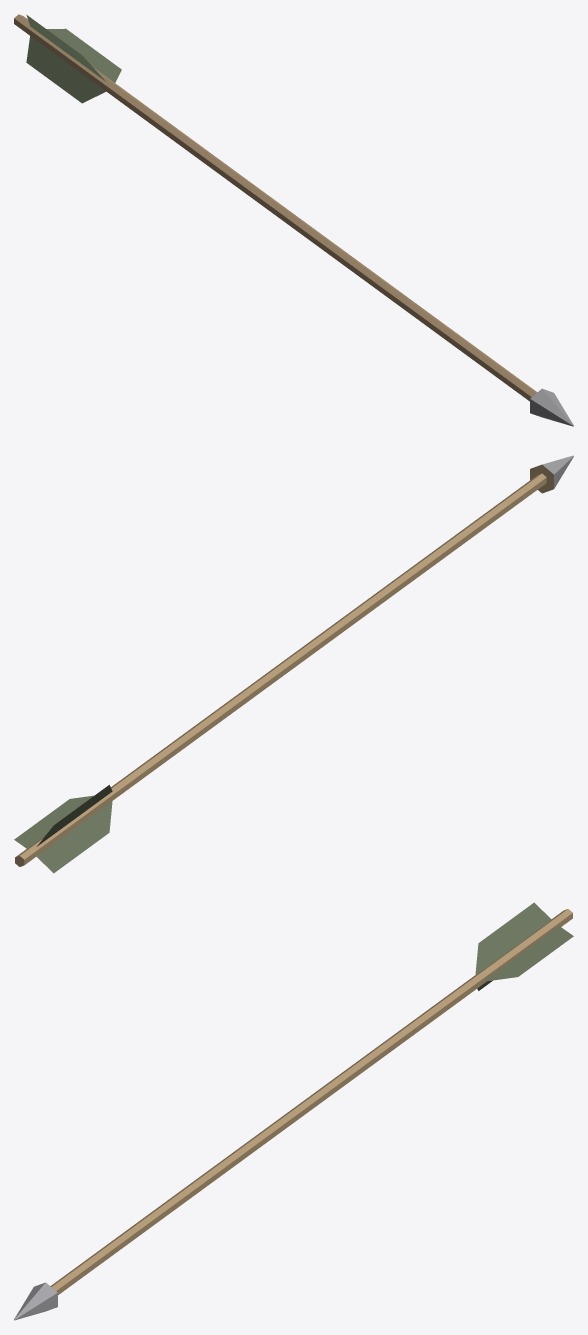
File: ROWAN_arrow.fbx
3 views of the same model, one above another, from view 1: azimuth 30°, elevation 25°; view 2: azimuth 150°, elevation 25°; view 3: azimuth 330°, elevation 25° (orthographic).
Parts seen in each view (by area): view 1: ROWAN_arrow; view 2: ROWAN_arrow; view 3: ROWAN_arrow.
Part boxes in pixels (box(x1,y1,x2,y2)): ROWAN_arrow: box(14, 14, 573, 426); ROWAN_arrow: box(14, 455, 573, 873); ROWAN_arrow: box(14, 902, 573, 1320).
Size of the model in its own units: 0.033 by 0.0381 by 0.795.
